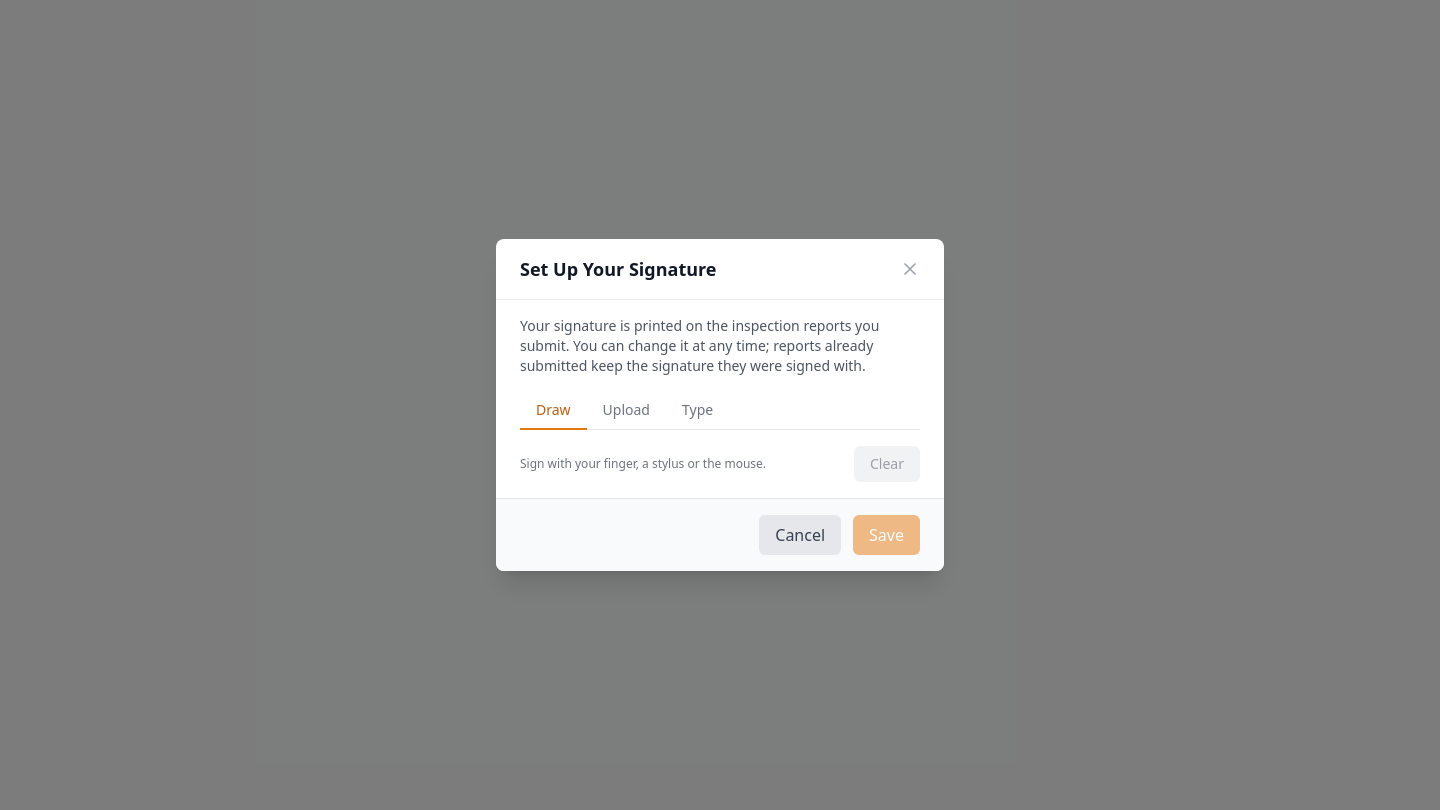
Test: SignatureSetupModal — Type tab › shows the typed text in every font card and in the preview as it changes
This screenshot has width=1440, height=810.
Click the tab "Type": (698, 411) [666, 392, 729, 430]
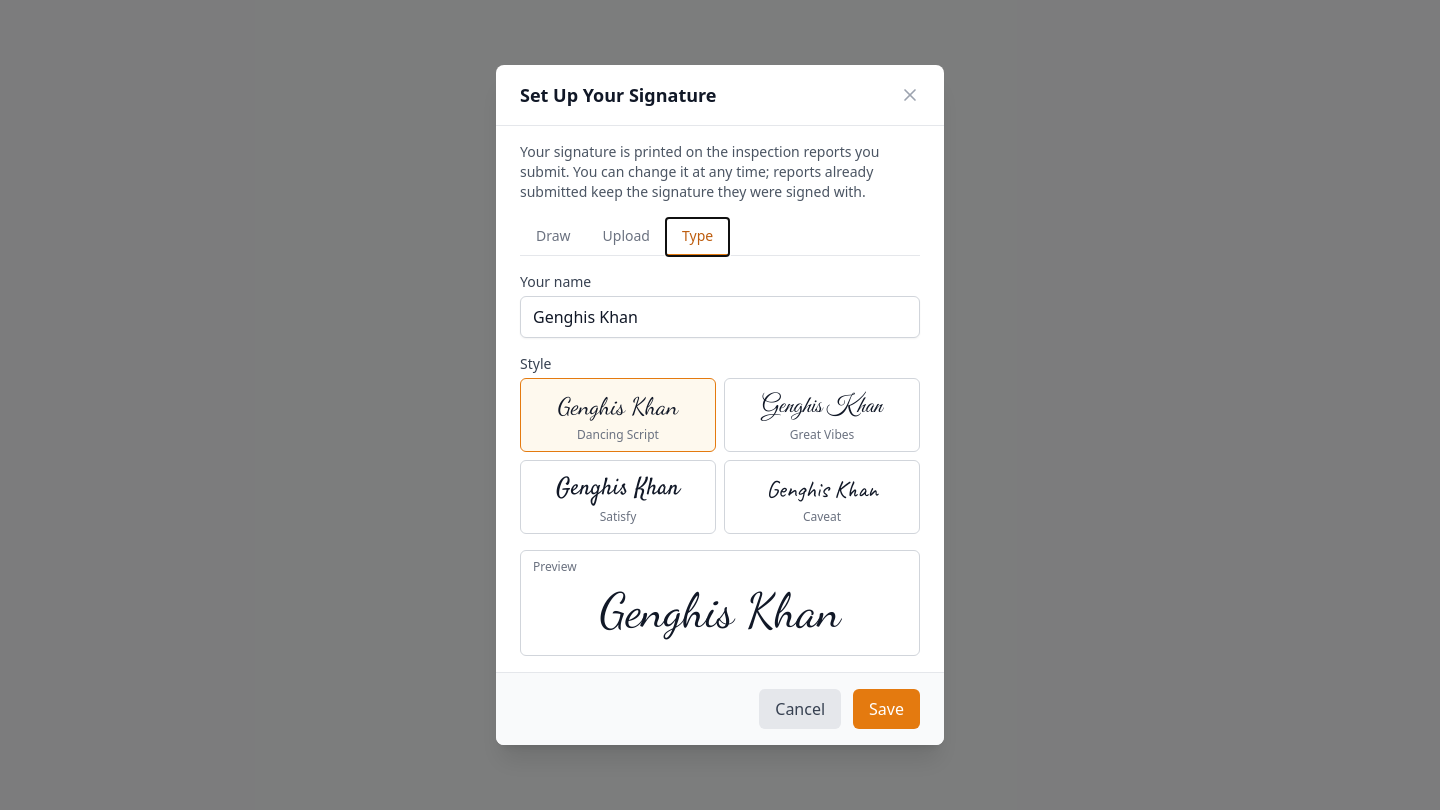
Clear the field labelled "Your name": (720, 317) [520, 296, 920, 338]
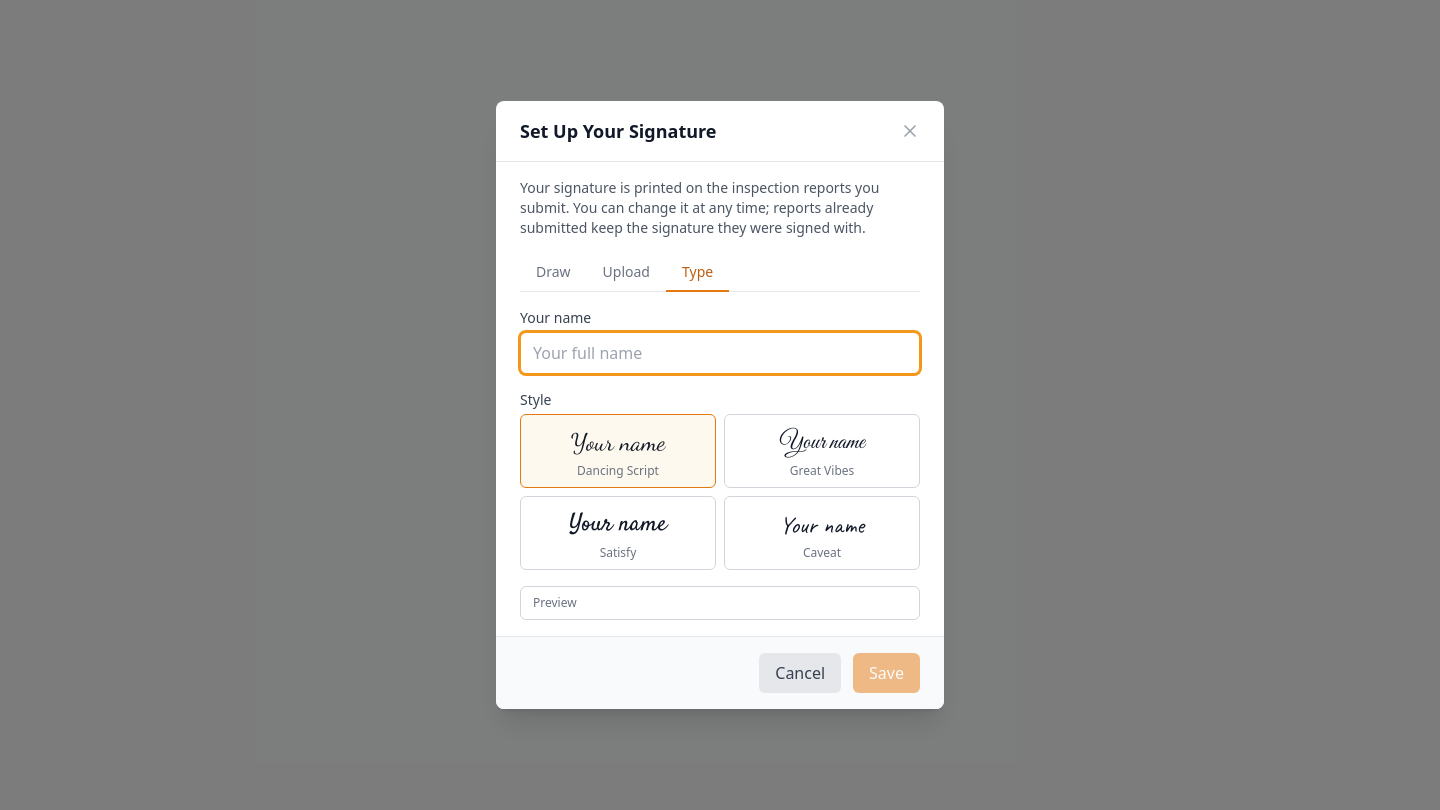
In the field labelled "Your name": (720, 353) [520, 332, 920, 374], type "G. Khan"
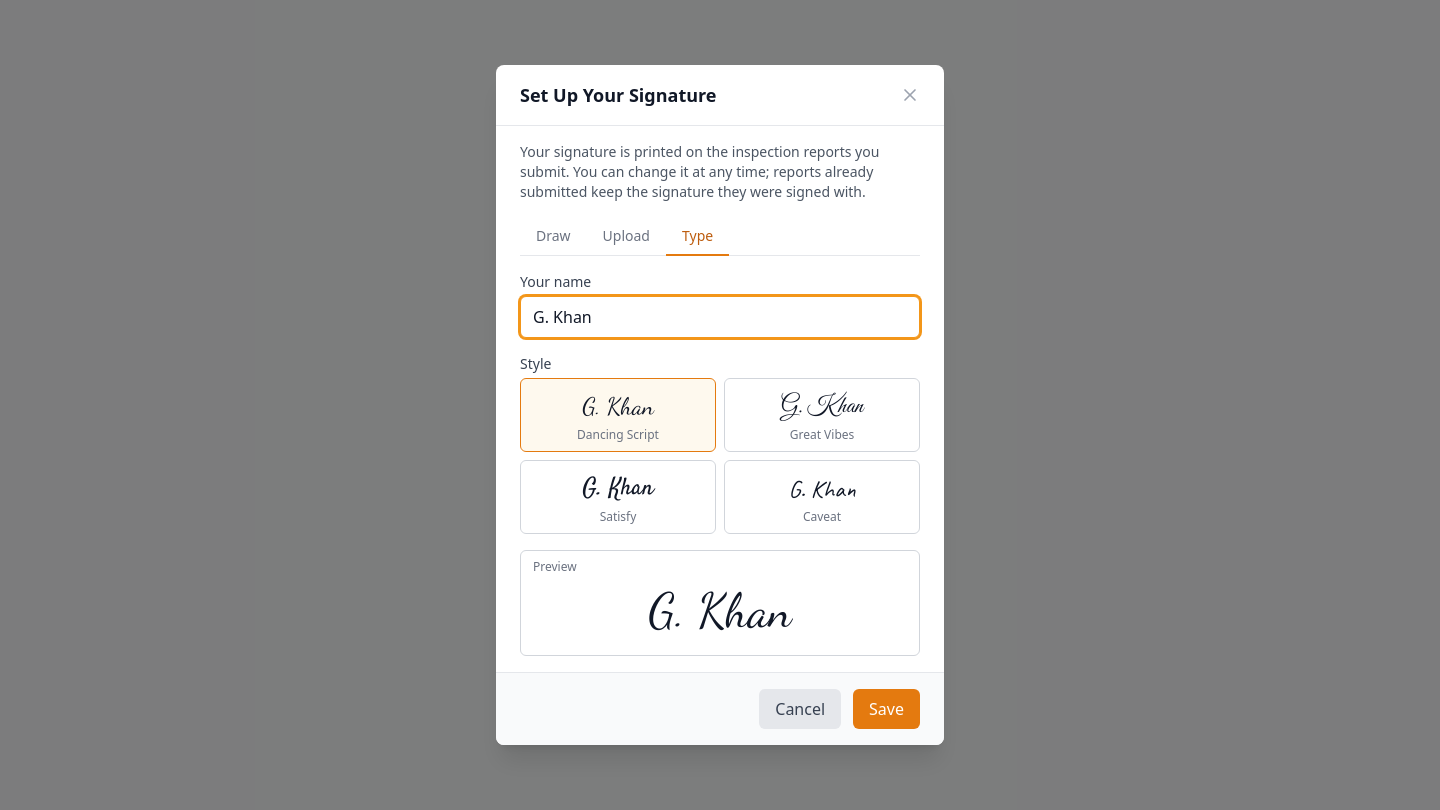
Expected: the text with test id "typed-preview" reads "G. Khan", [648, 582, 792, 639]
Expected: the text with test id "font-sample-caveat" reads "G. Khan", [789, 474, 856, 504]
